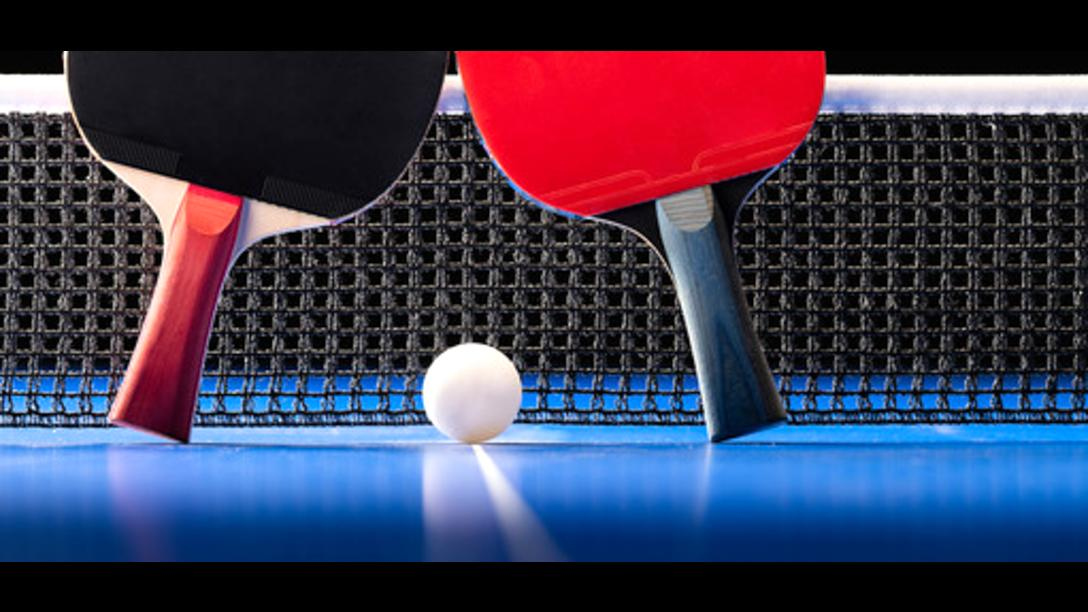Table-Tennis-Ball: (425, 343, 521, 439)
